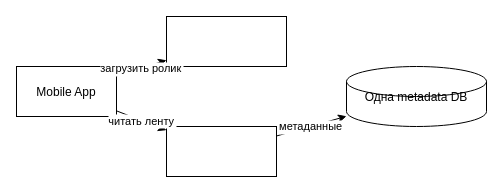
Some shapes in this 503 by 193 pixel diagram are drawn without their labels. Each missing label, with the centre of its shape:
Feed API: pixel 221 151
Upload Service: pixel 226 41
